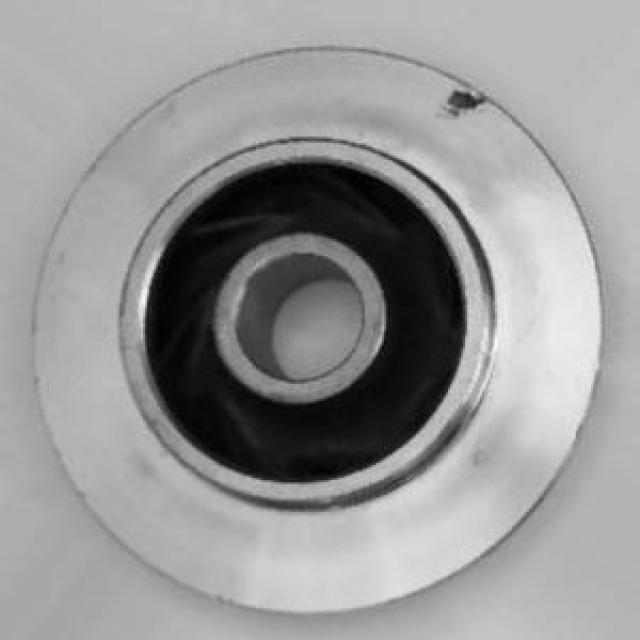Defect: (430, 76, 495, 118)
